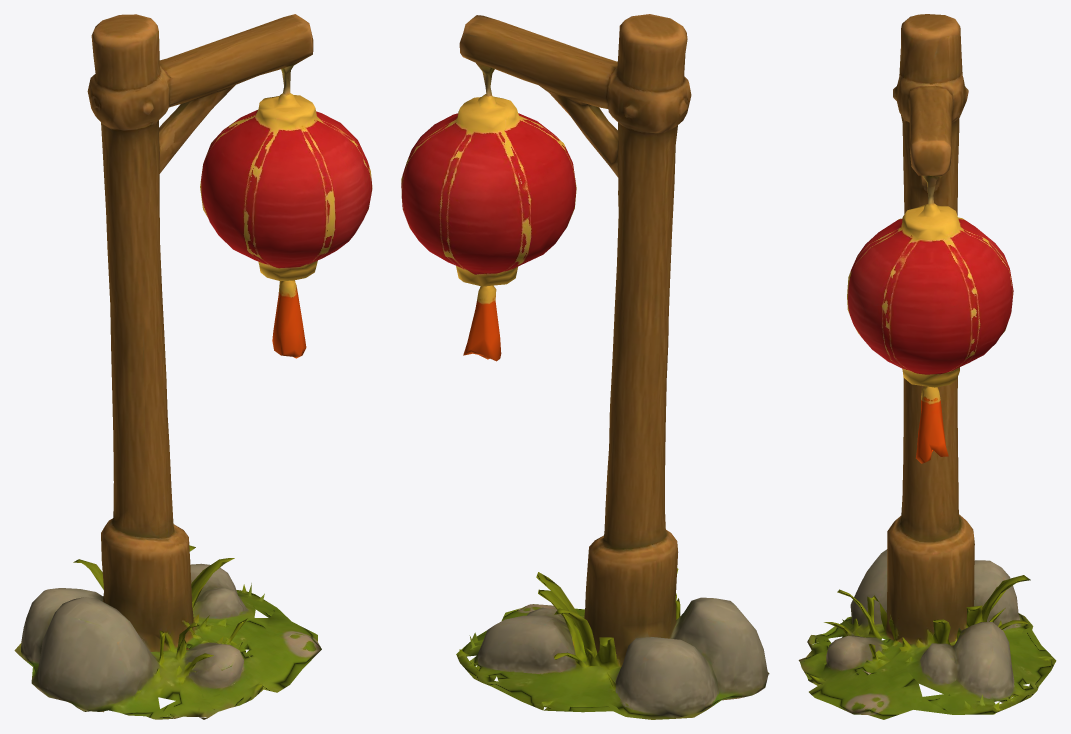
Rendered from lanternpole.glb.
3 views of the same model, side by side, from view 1: azimuth 30°, elevation 25°; view 2: azimuth 150°, elevation 25°; view 3: azimuth 270°, elevation 25° (orthographic). The views are drawn at different scales.
Bounding box in the file's own units: 0.5299 × 0.9963 × 0.3667.
Materials: 1 (1 with a texture image).
